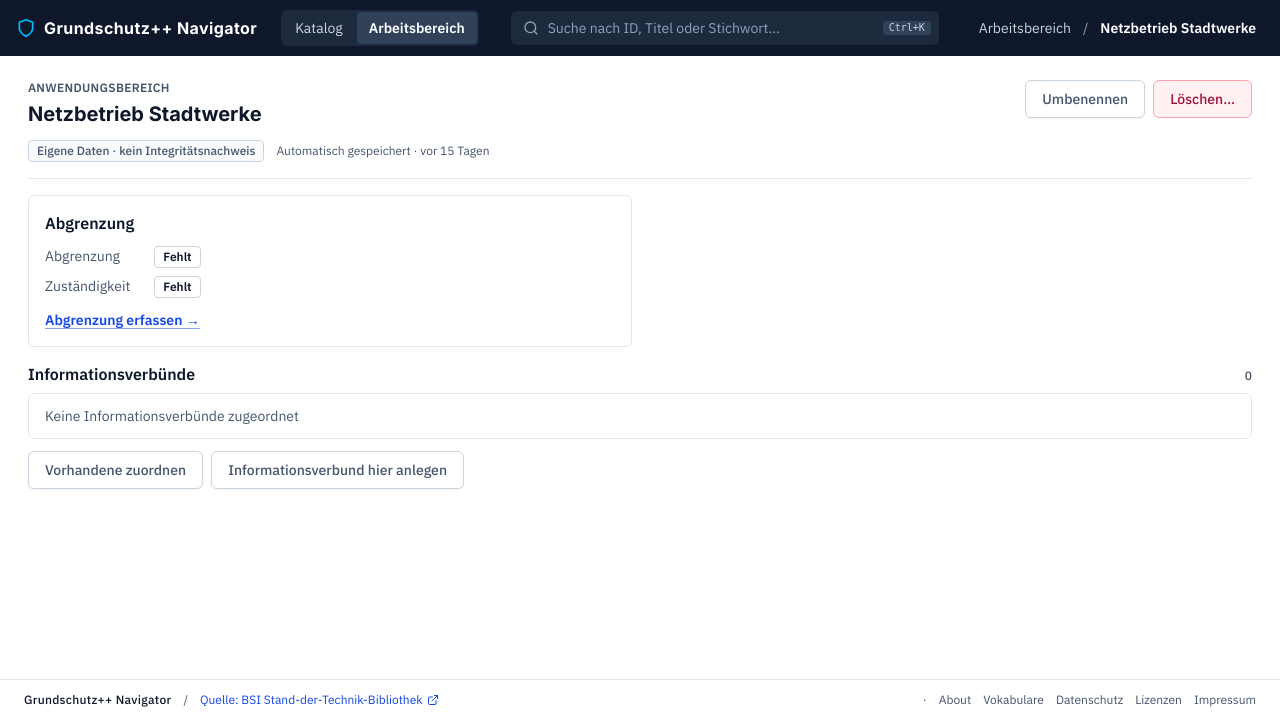
Test: Speicherfehler, Konflikt und Schreibsperre › übernimmt einen bestätigten neuen Namen und schließt das Formular
Click the button "Umbenennen" at (1085, 99), box [1025, 80, 1145, 118]
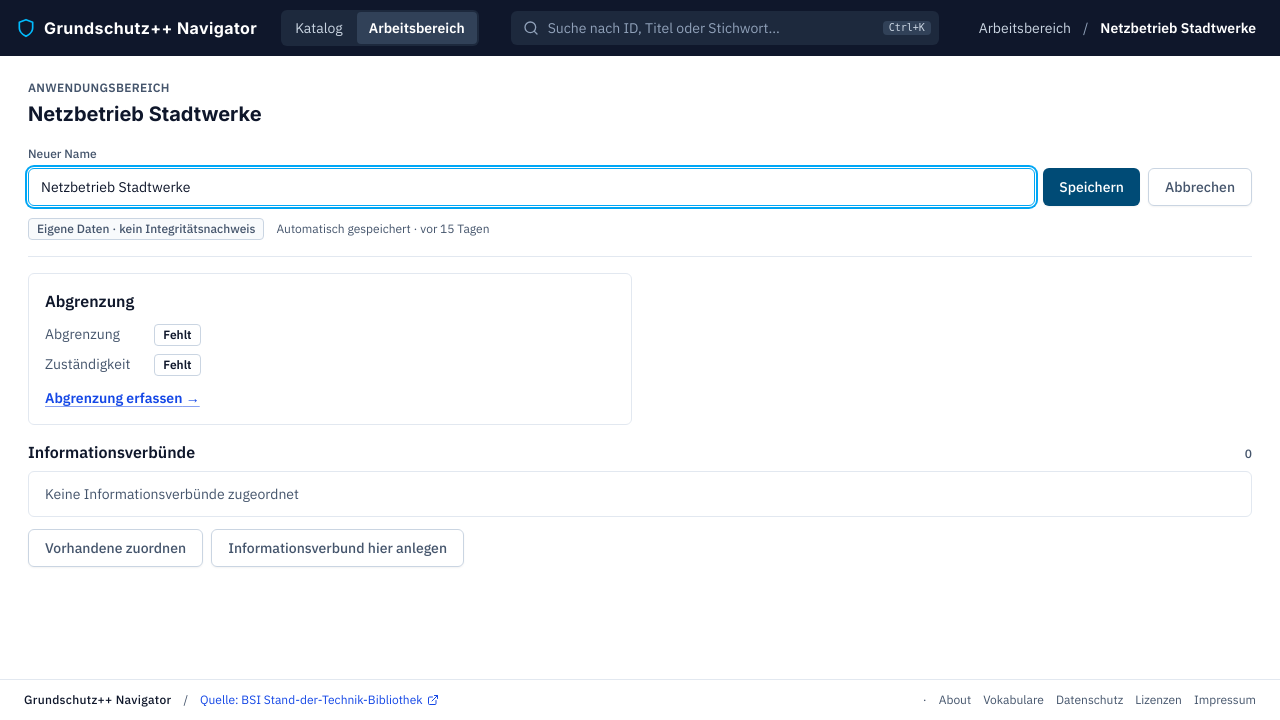
Replace the text in the field labelled "Neuer Name" with "Netzbetrieb Nord" at (532, 187), box [28, 168, 1035, 206]
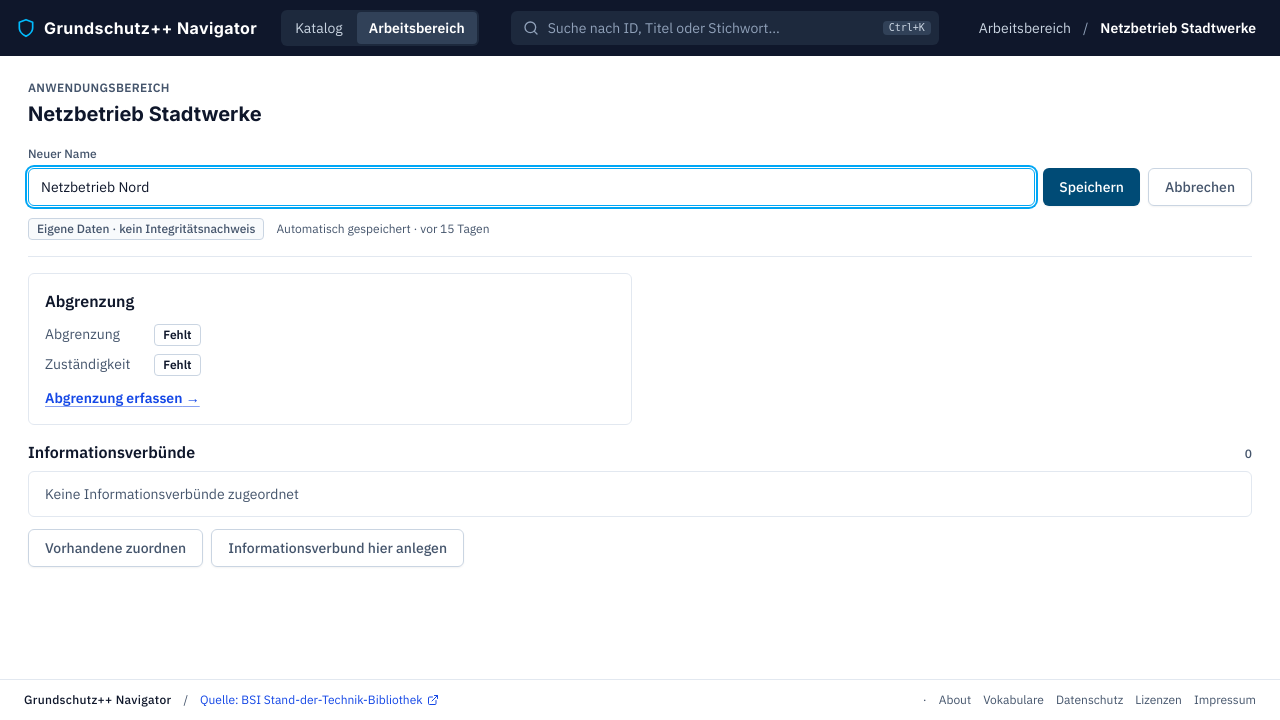
Click the button "Speichern" at (1092, 187), box [1043, 168, 1140, 206]
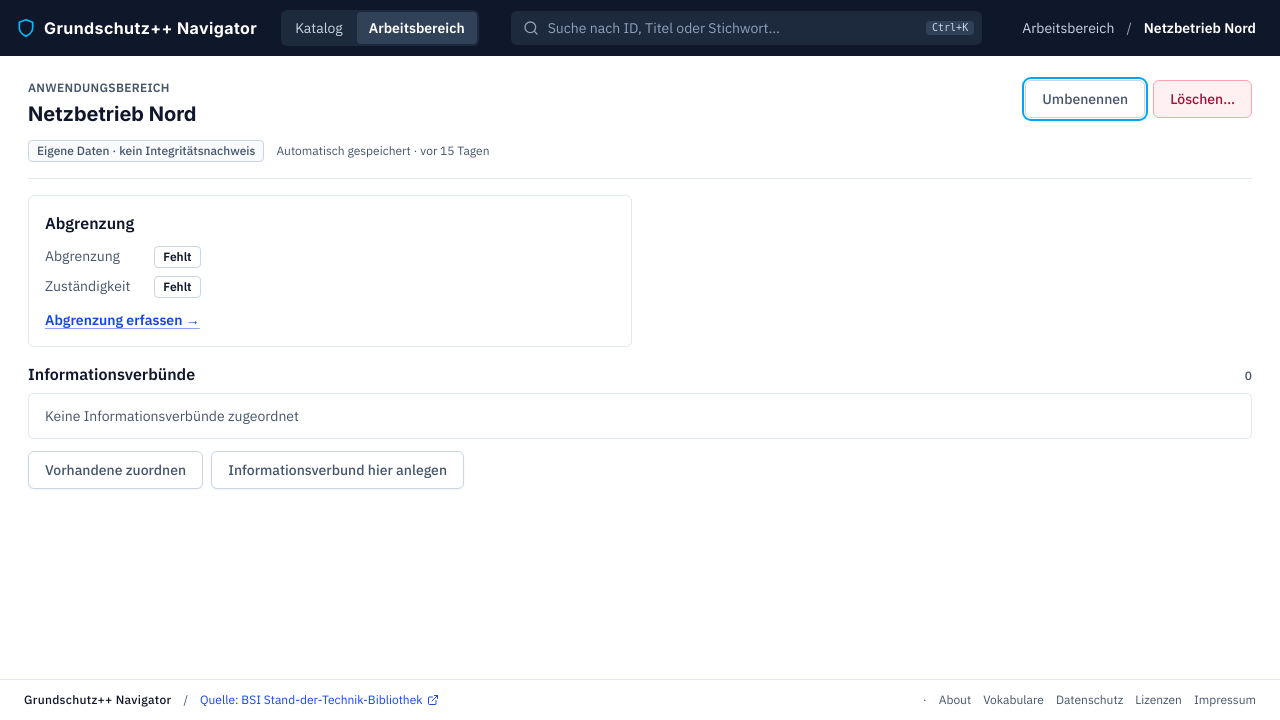
Result: the heading "Netzbetrieb Nord" is shown at [28, 100, 196, 128]
Result: the label labelled "Neuer Name" is gone
